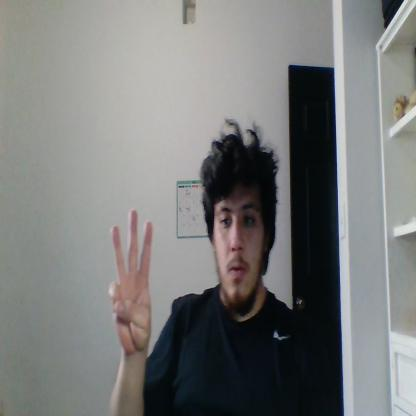W: (108, 210, 153, 352)
